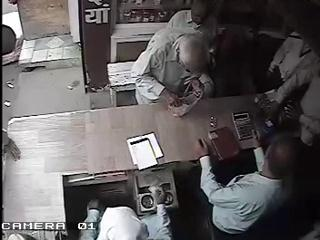Normal: (195, 134, 298, 240), (130, 0, 222, 117), (78, 179, 174, 240)
